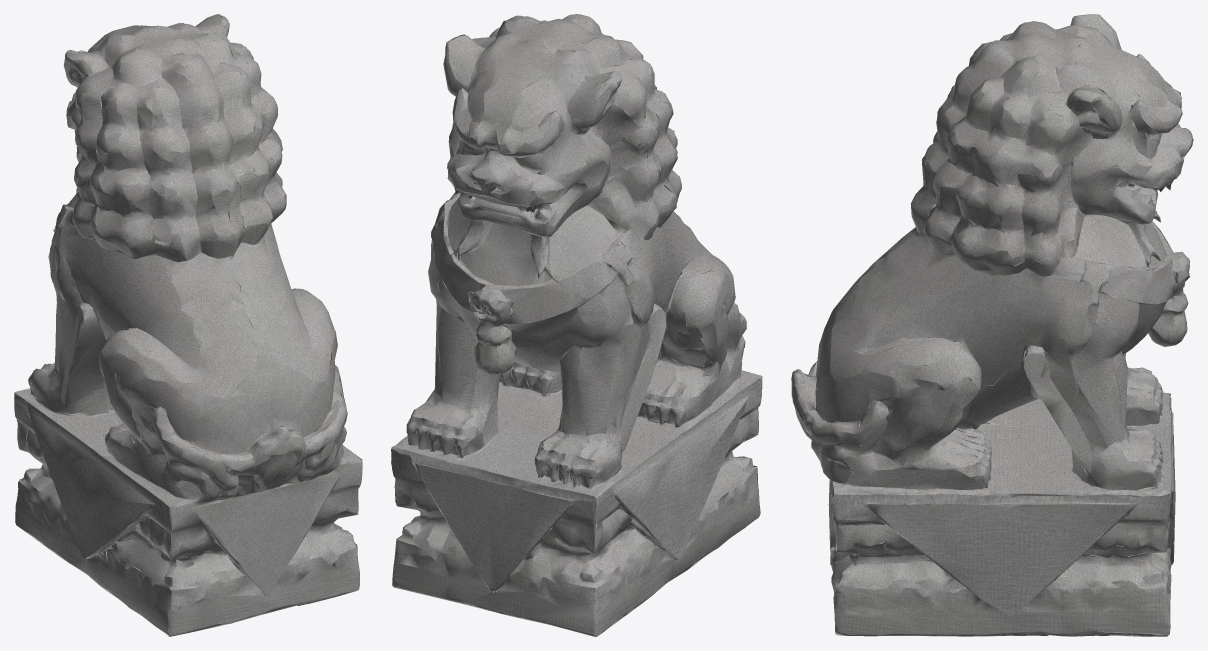
File: lion.glb
3 views of the same model, side by side, from view 1: azimuth 30°, elevation 25°; view 2: azimuth 150°, elevation 25°; view 3: azimuth 270°, elevation 25° (orthographic). The views are drawn at different scales.
Parts seen in each view (by area): view 1: Mesh_0; view 2: Mesh_0; view 3: Mesh_0.
Boxes of the visible parts, x1,y1,x2,y2 form: Mesh_0: [14, 14, 362, 636]; Mesh_0: [391, 14, 762, 636]; Mesh_0: [791, 14, 1193, 636].
Size of the model in its own units: 0.4469 by 1 by 0.6643.
1 material, 1 textured.
